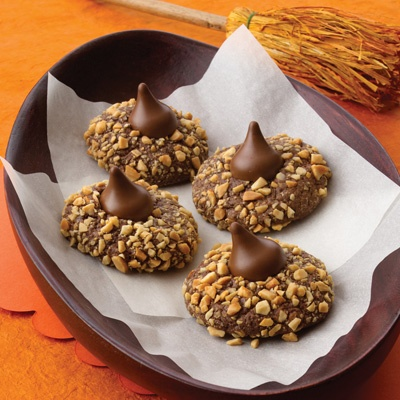background: (38, 51, 208, 217)
